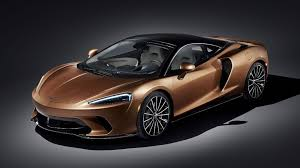car: (27, 25, 279, 158)
